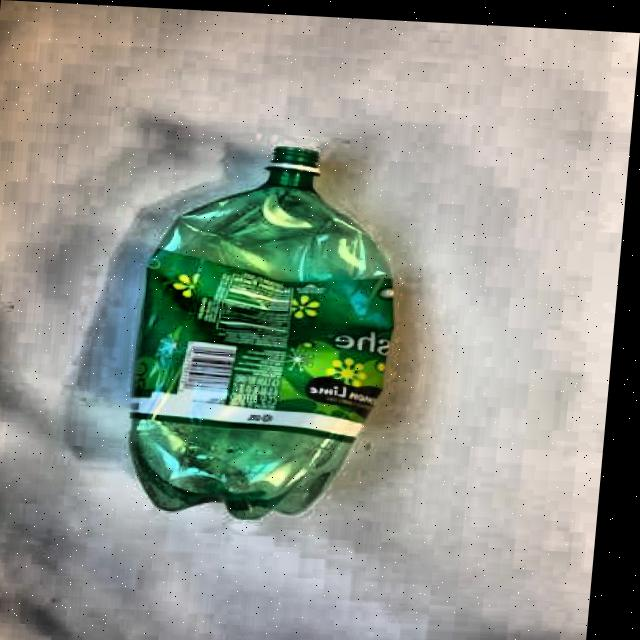plastic: (123, 136, 416, 527)
